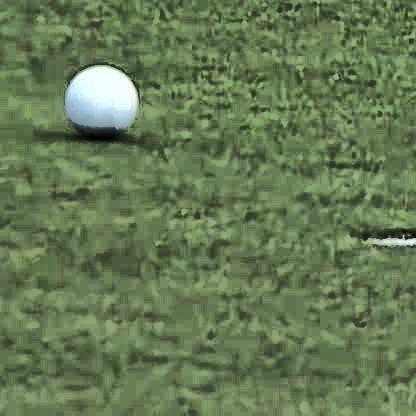golfball: (63, 56, 134, 133)
